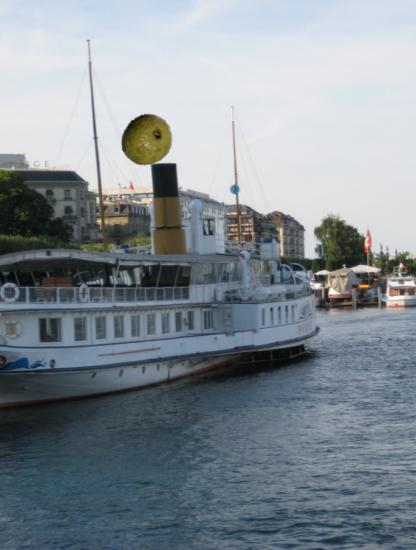Guava: (120, 113, 174, 167)
